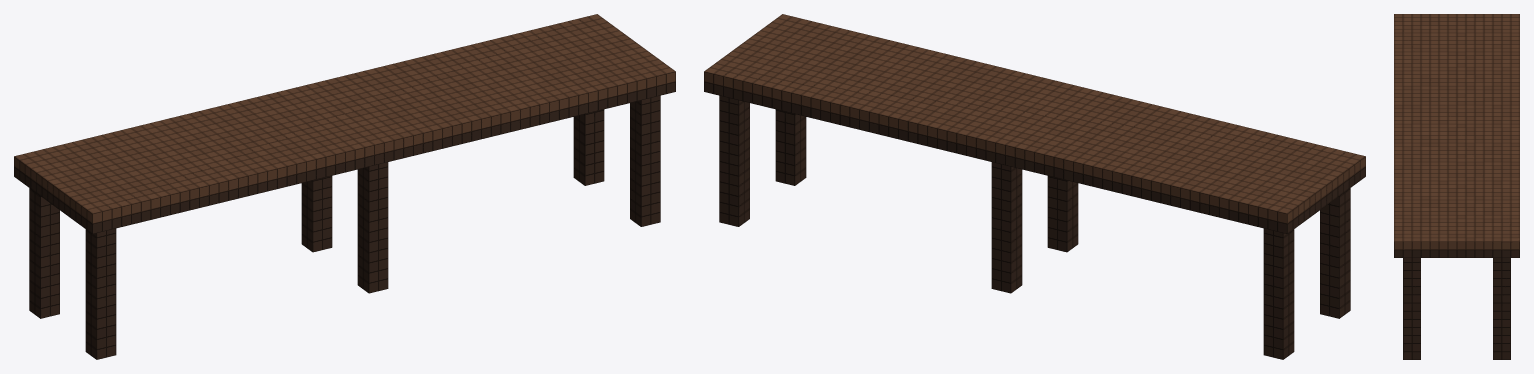
Rendered from communal_table.glb.
The picture shows the model from 3 angles, left to right: view 1: azimuth 30°, elevation 25°; view 2: azimuth 150°, elevation 25°; view 3: azimuth 270°, elevation 25°; orthographic projection. The views are drawn at different scales.
Visible parts, largest first — view 1: communal_table; view 2: communal_table; view 3: communal_table.
Boxes of the visible parts, x1=… form: communal_table: x1=14, y1=14, x2=675, y2=359; communal_table: x1=704, y1=14, x2=1365, y2=359; communal_table: x1=1394, y1=14, x2=1519, y2=359.
Size of the model in its own units: 3 by 0.75 by 0.7.
Materials: 2 (2 with a texture image).
